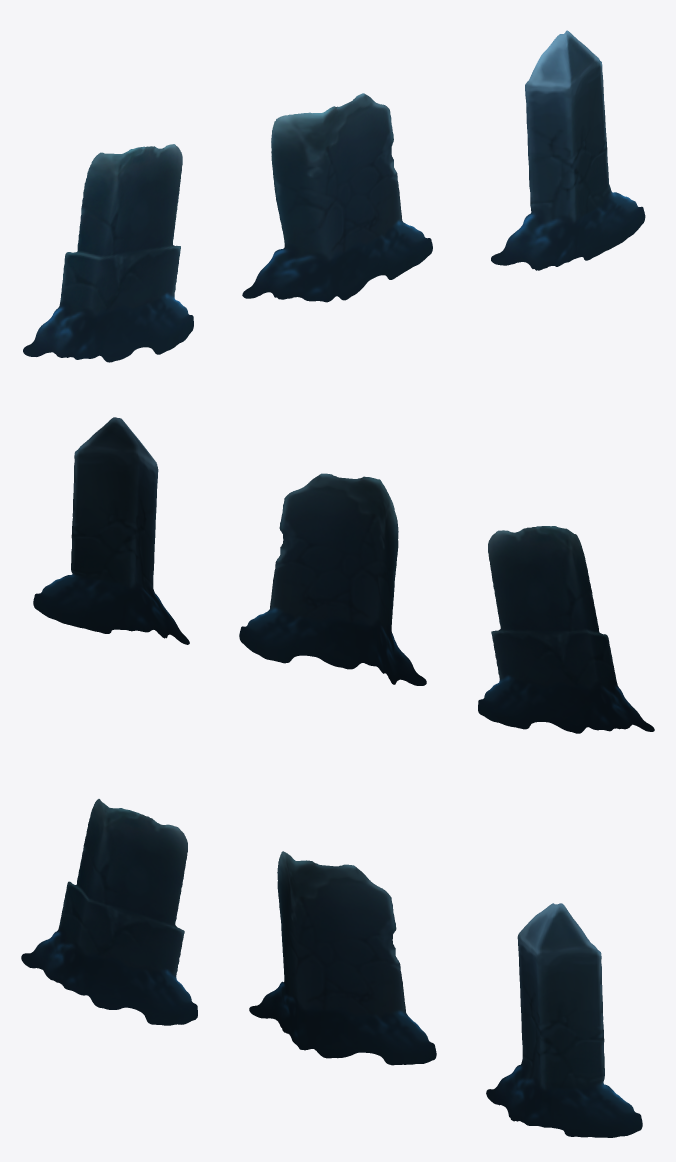
Rendered from Tomb Stones.FBX.
3 renders of one model, top to bottom at view 1: azimuth 30°, elevation 25°; view 2: azimuth 150°, elevation 25°; view 3: azimuth 330°, elevation 25°, orthographic.
Visible parts, largest first — view 1: Tomb Stone B, Tomb Stone A, Tomb Stone C; view 2: Tomb Stone B, Tomb Stone A, Tomb Stone C; view 3: Tomb Stone B, Tomb Stone A, Tomb Stone C.
Boxes of the visible parts, x1,y1,x2,y2 form: Tomb Stone B: (242, 93, 432, 302); Tomb Stone A: (23, 144, 193, 362); Tomb Stone C: (491, 30, 645, 270); Tomb Stone B: (239, 473, 426, 685); Tomb Stone A: (478, 526, 654, 733); Tomb Stone C: (33, 417, 189, 644); Tomb Stone B: (249, 851, 436, 1065); Tomb Stone A: (21, 799, 197, 1025); Tomb Stone C: (486, 903, 642, 1137).
Bounding box in the file's own units: 681 × 30.62 × 259.
